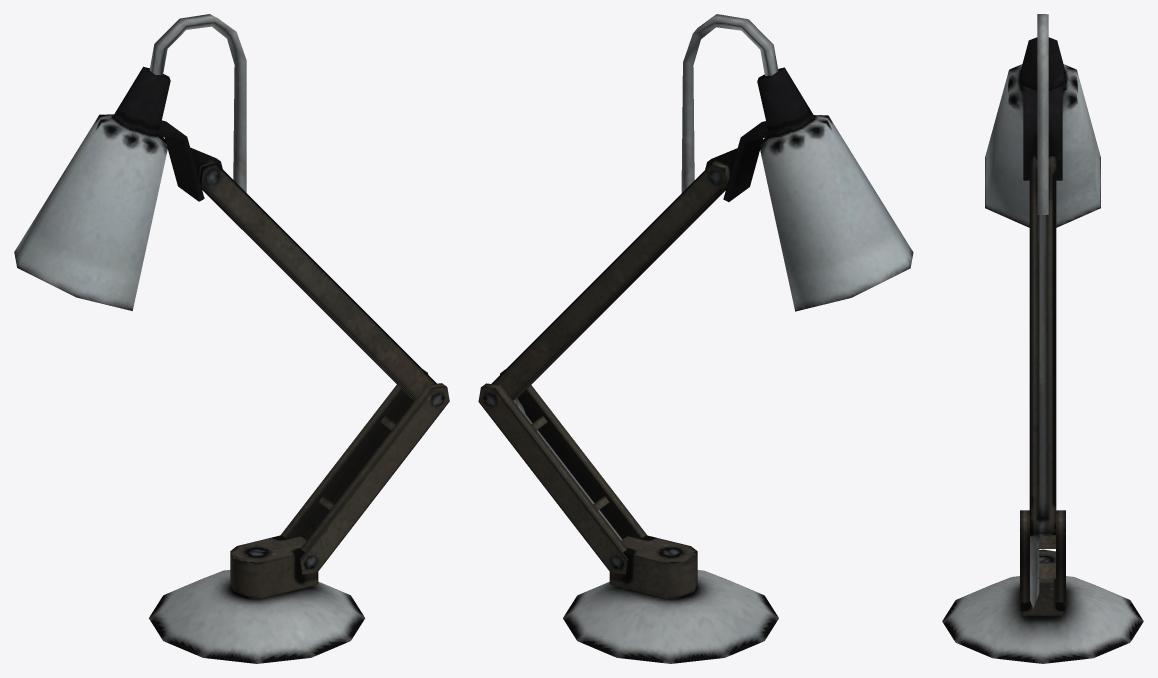
The model's file is p_pent_lamp_desk_off_lod1.glb.
3 renders of one model, left to right at view 1: azimuth 30°, elevation 25°; view 2: azimuth 150°, elevation 25°; view 3: azimuth 270°, elevation 25°, orthographic. The views are drawn at different scales.
Visible parts, largest first — view 1: surf0; view 2: surf0; view 3: surf0.
Part boxes in pixels (box(x1,y1,x2,y2)): surf0: box(14, 14, 449, 663); surf0: box(478, 14, 913, 663); surf0: box(942, 14, 1143, 663).
Size of the model in its own units: 17.07 by 23.89 by 7.62.
